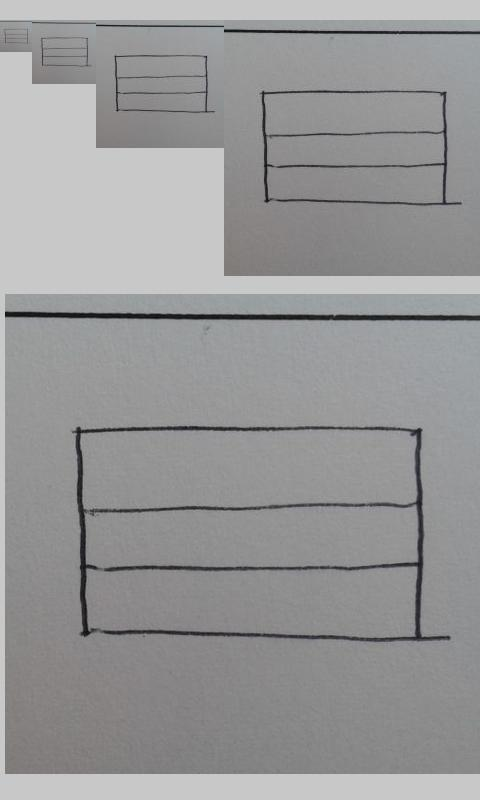list_view: (72, 423, 428, 648), (260, 90, 449, 207), (113, 53, 209, 114), (40, 36, 90, 68), (4, 28, 29, 44)
